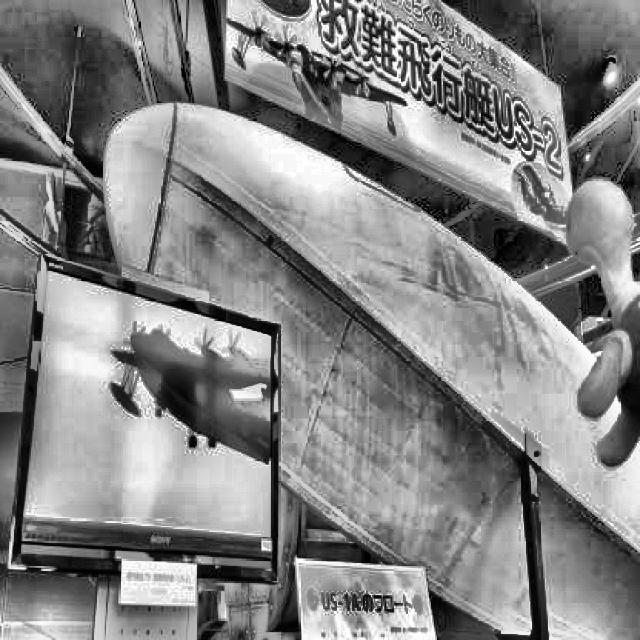US2: (110, 319, 272, 466), (226, 10, 408, 138), (513, 164, 567, 230)
